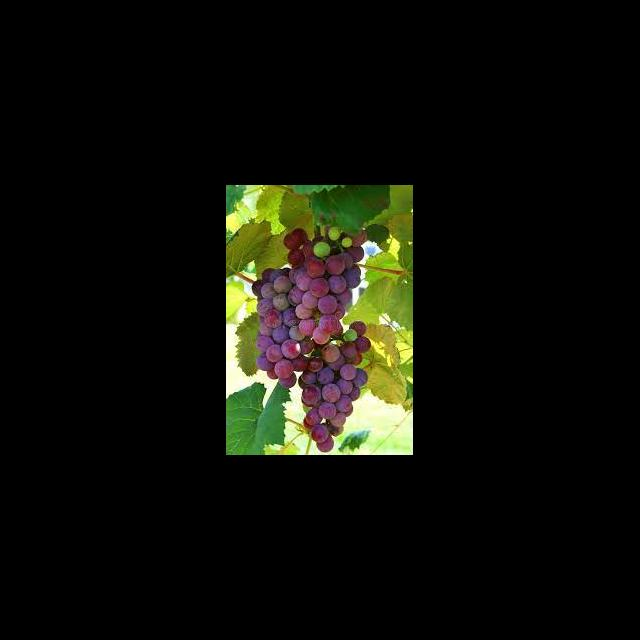grape: (252, 225, 372, 452)
